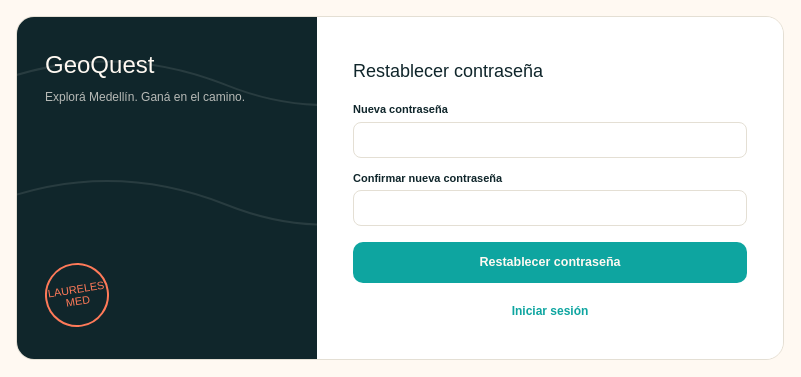
Test: ResetPasswordPage › submits email/token from the query string plus the new password, and shows confirmation on success
Type "password123" into the password field labelled "Nueva contraseña" at (550, 140), box [353,122,747,158]
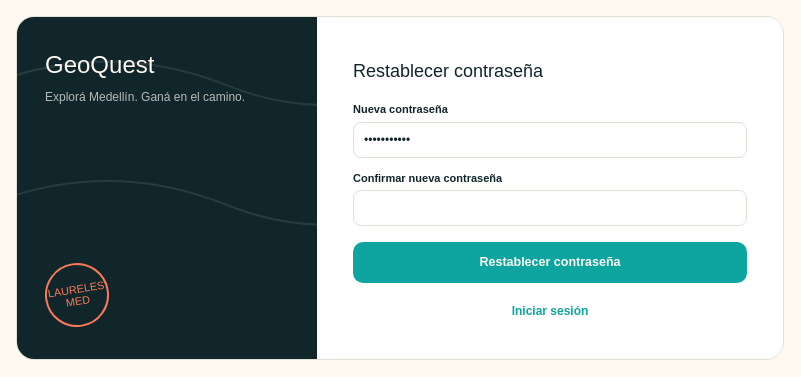
Type "password123" into the password field labelled "Confirmar nueva contraseña" at (550, 208), box [353,190,747,226]
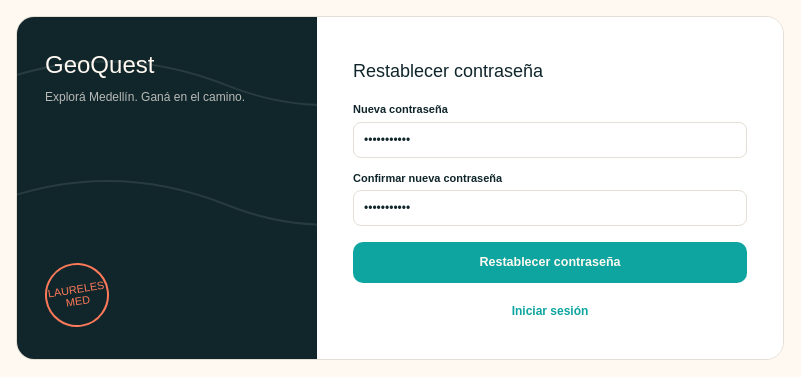
Click the button "Restablecer contraseña" at (550, 262), box [353,242,747,283]
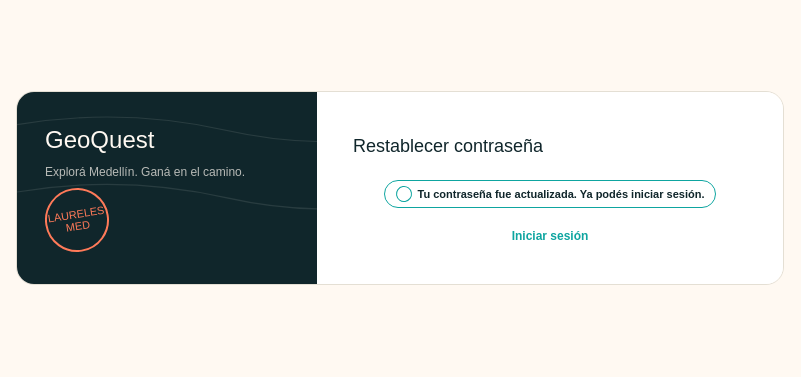
Check: the text "Tu contraseña fue actualizada. Ya podés iniciar sesión." is shown, box [384,180,716,208]
Check: the label labelled "Nueva contraseña" is gone
